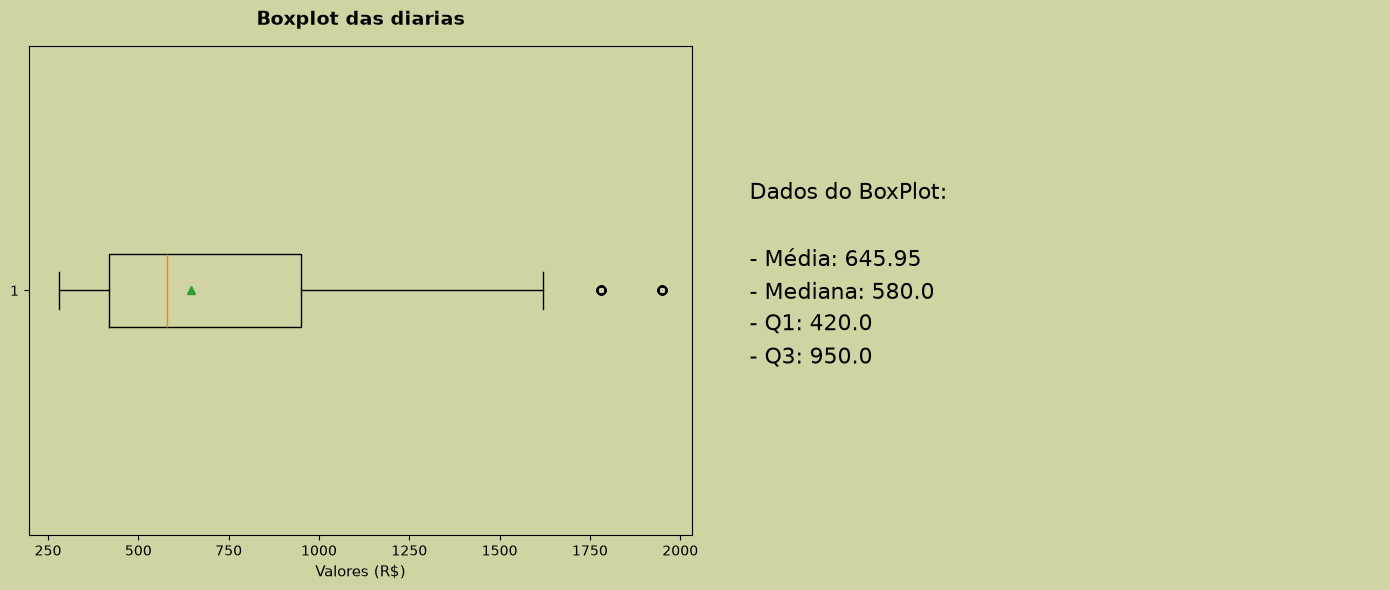

The dashboard page shown, as its layout file describes it:
{"tool":"powerbi","page":{"name":"Página 1","canvas":[1920,1080],"ordinal":0},"visuals":[{"type":"clusteredBarChart","box":[388.1,96.3,1142.4,887.1],"z":0}]}

Visuals, with their boxes on the page's 1920x1080 design canvas (x1, y1, x2, y2). These are canvas units, not pixel positions in the 1390x590 screenshot, which may show the page scaled, cropped or inside an application window:
clusteredBarChart: [x1=388, y1=96, x2=1530, y2=983]
